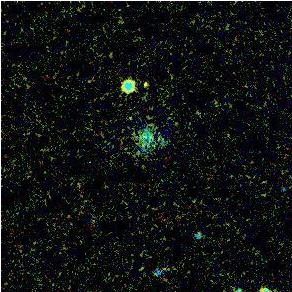star: (131, 69, 161, 99)
